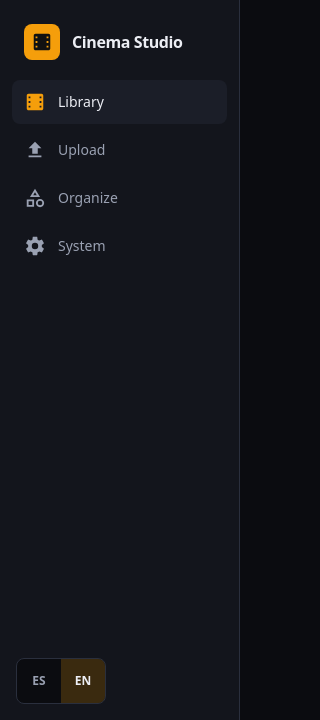
Test: NavBar › switches language
The width and height of the screenshot is (320, 720).
What coordinates should you click on to do the following:
click the button "es"
I would click on:
 (39, 681)
Its box is top-left (17, 659), bottom-right (61, 703).
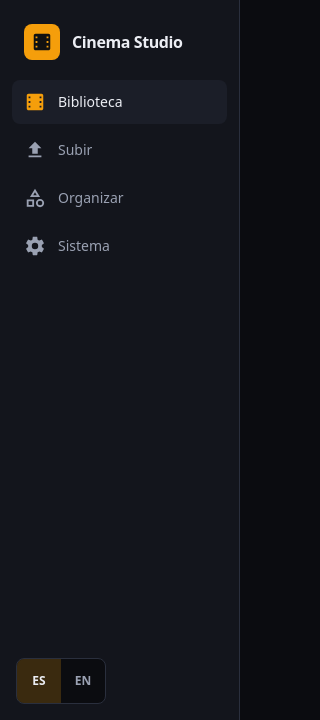
Now the links read "Biblioteca", "Subir", "Organizar", "Sistema", in this order, box top-left (12, 80), bottom-right (227, 124); top-left (24, 139), bottom-right (92, 161); top-left (24, 187), bottom-right (124, 209); top-left (24, 235), bottom-right (110, 257)
